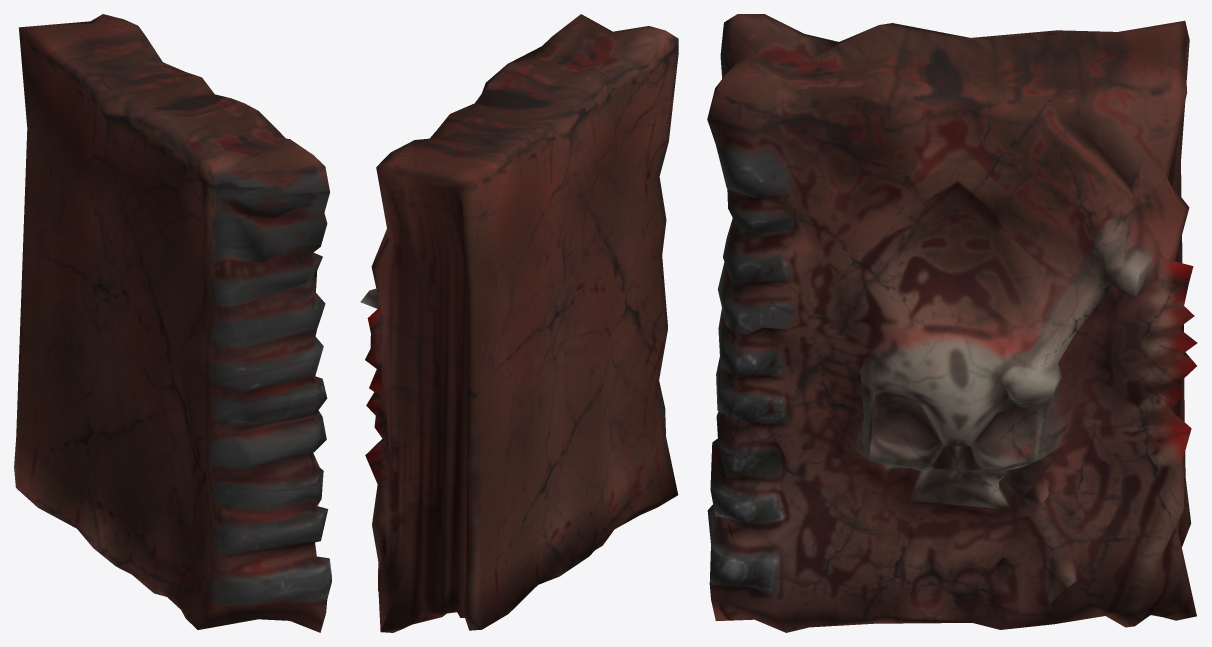
Rendered from scene_parchemin.glb.
The picture shows the model from 3 angles, left to right: view 1: azimuth 30°, elevation 25°; view 2: azimuth 150°, elevation 25°; view 3: azimuth 270°, elevation 25°; orthographic projection. The views are drawn at different scales.
Parts seen in each view (by area): view 1: booklow; view 2: booklow; view 3: booklow.
Part boxes in pixels (left/top/right/bottom): booklow: left=14, top=14, right=331, bottom=632; booklow: left=360, top=14, right=678, bottom=632; booklow: left=707, top=14, right=1197, bottom=632.
Bounding box in the file's own units: 1.88 × 4.94 × 3.89.
Materials: 1 (1 with a texture image).
